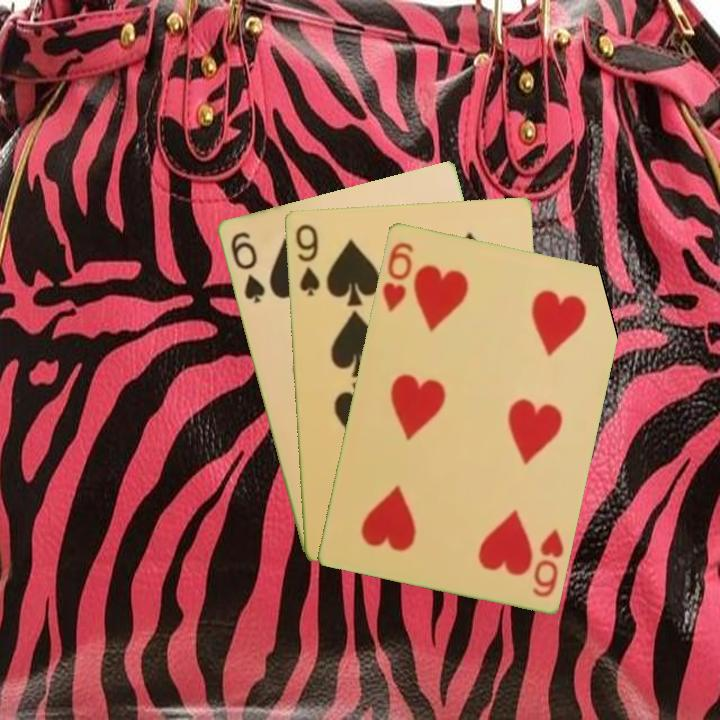6h: (378, 238, 416, 314), (529, 524, 567, 600)
6s: (226, 227, 268, 306)
9s: (291, 221, 322, 299)
